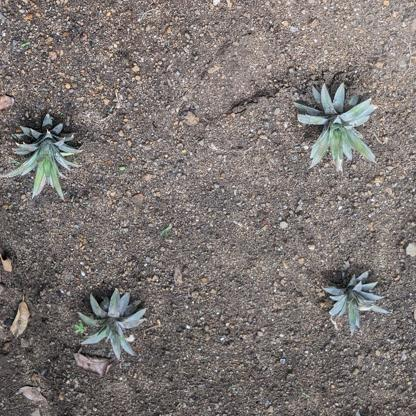pineapple: (294, 80, 380, 173), (1, 110, 83, 204), (75, 287, 148, 362), (321, 269, 388, 338)
